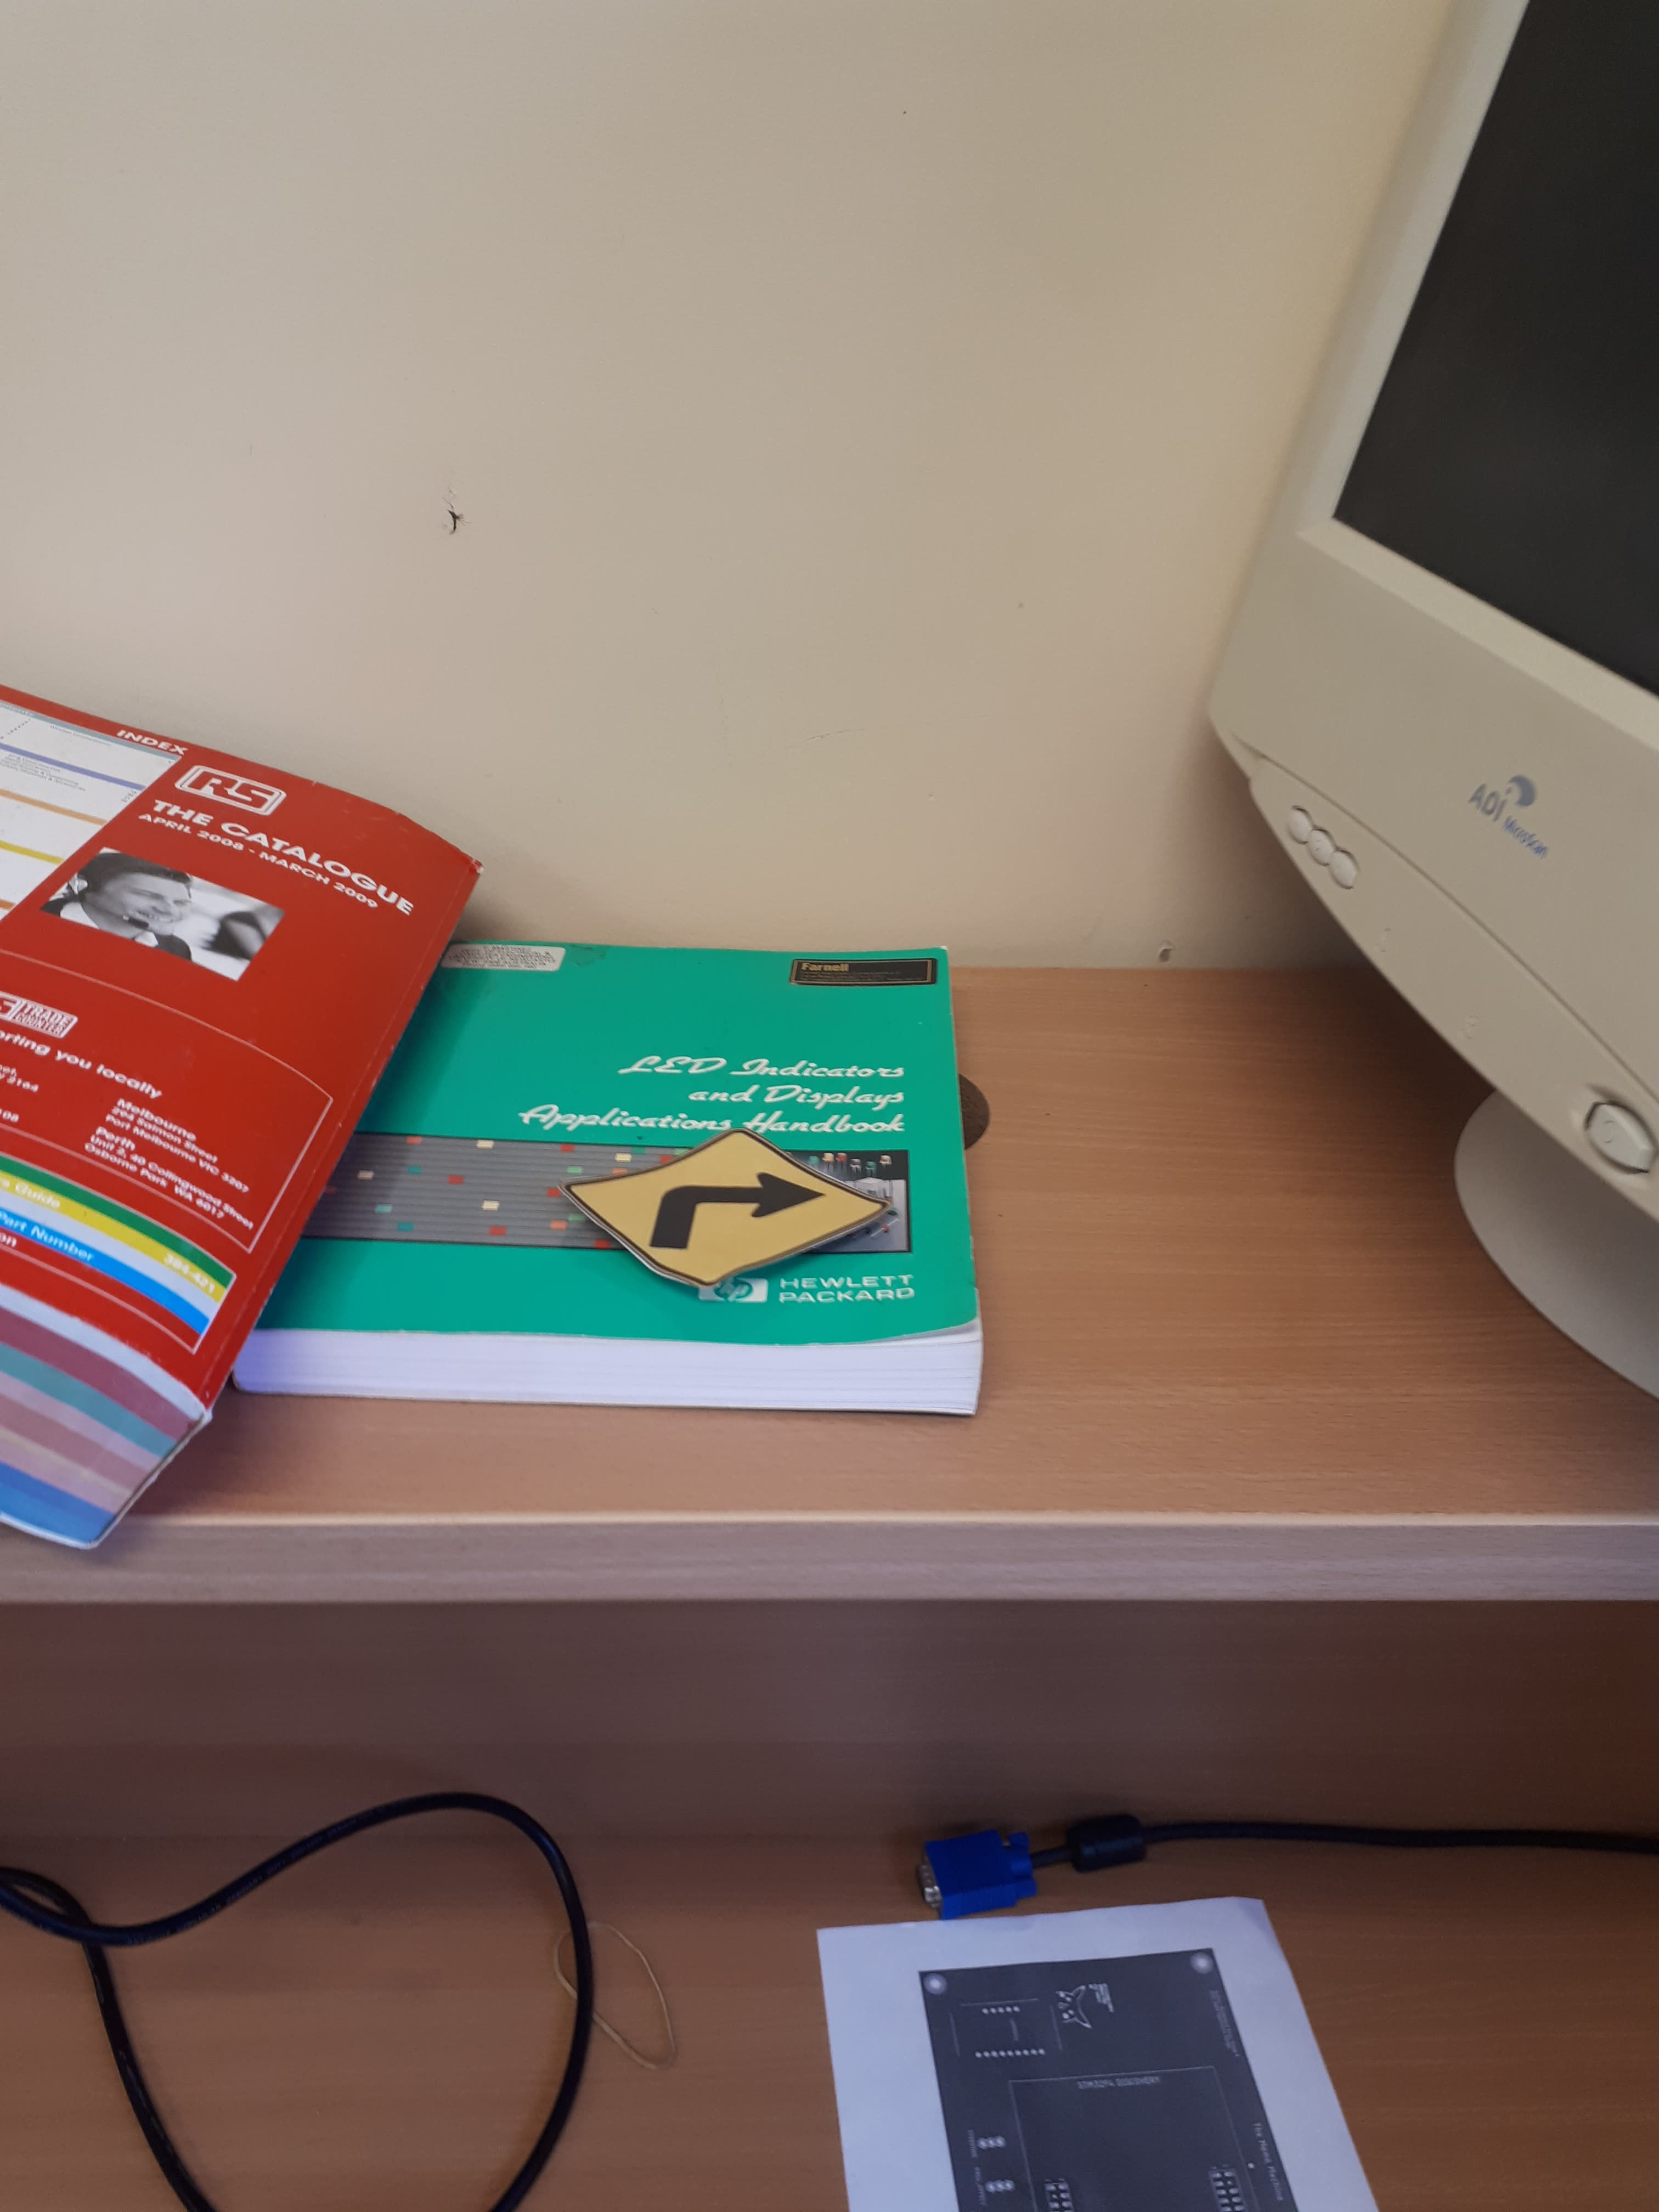right: (568, 1137, 885, 1292), (683, 1151, 842, 1233)
